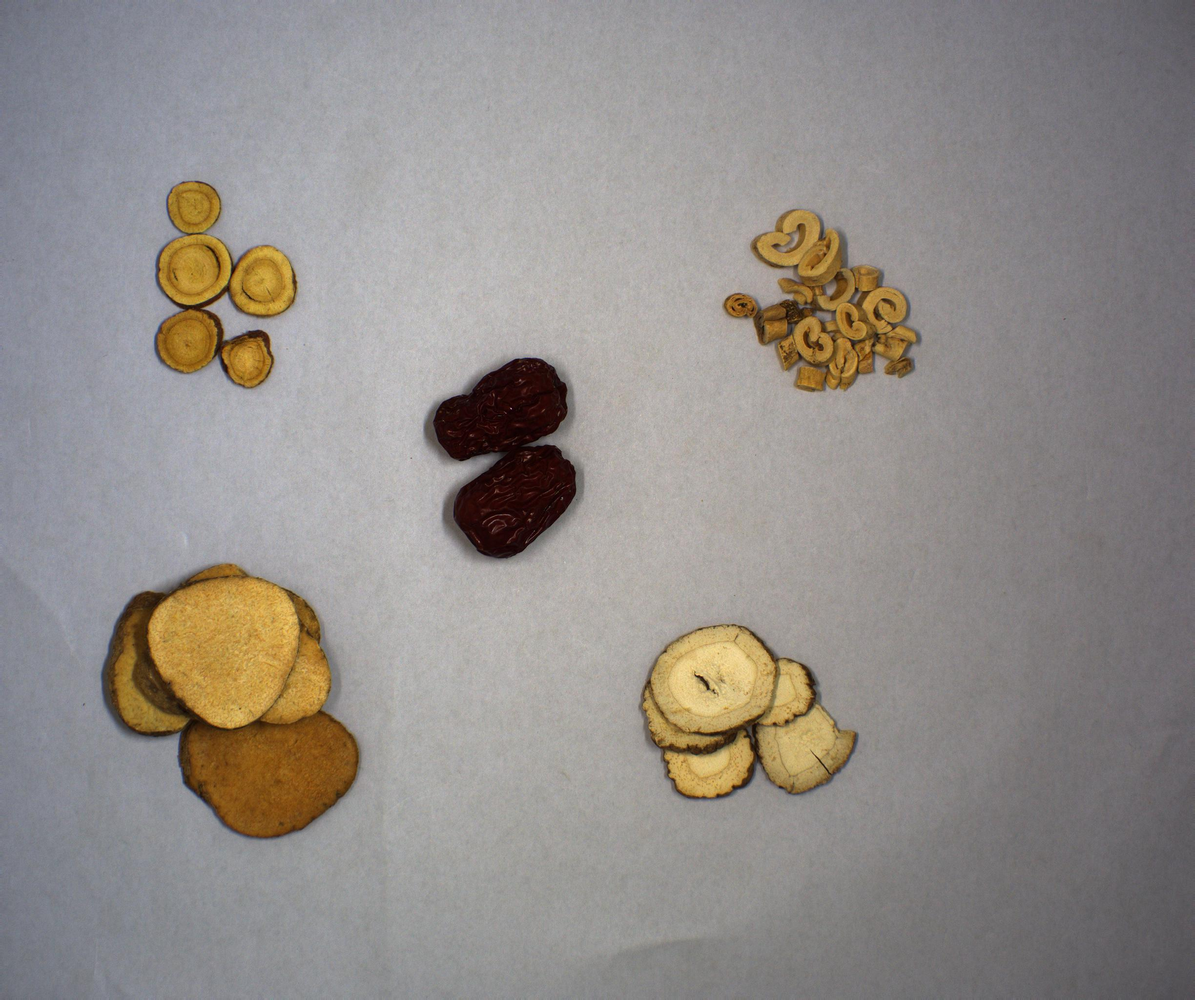baixianpi: (722, 210, 921, 395)
baizhi: (640, 620, 859, 803)
dazao: (433, 355, 577, 557)
gancao: (155, 178, 298, 389)
zexie: (101, 562, 361, 838)
